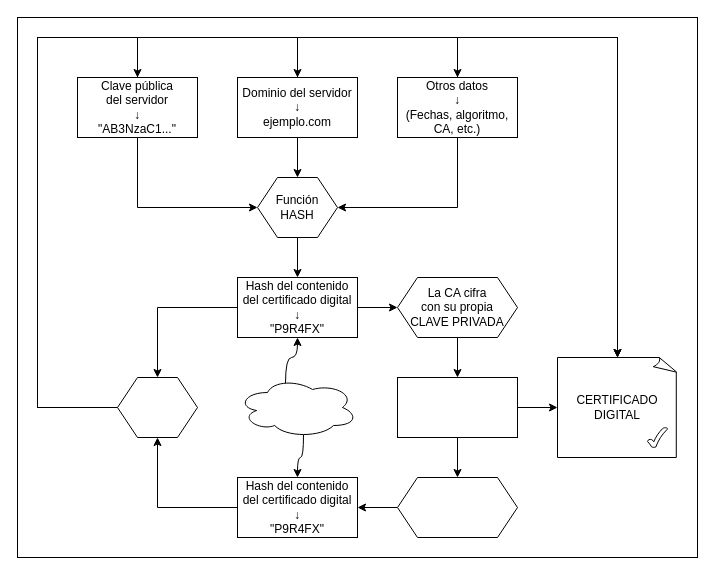
Image size: 715x575. Some labels were removed from this diagram. The shapes that lost their labels are listed below. From the top down, each one's centre as x and y in pixels, then its label:
the point at 157,407: Función HASH Inversa
the point at 297,407: ¿Coinciden?
the point at 457,407: FIRMA DIGITAL
the point at 457,507: El navegador descifra con CLAVE PÚBLICA de la CA
